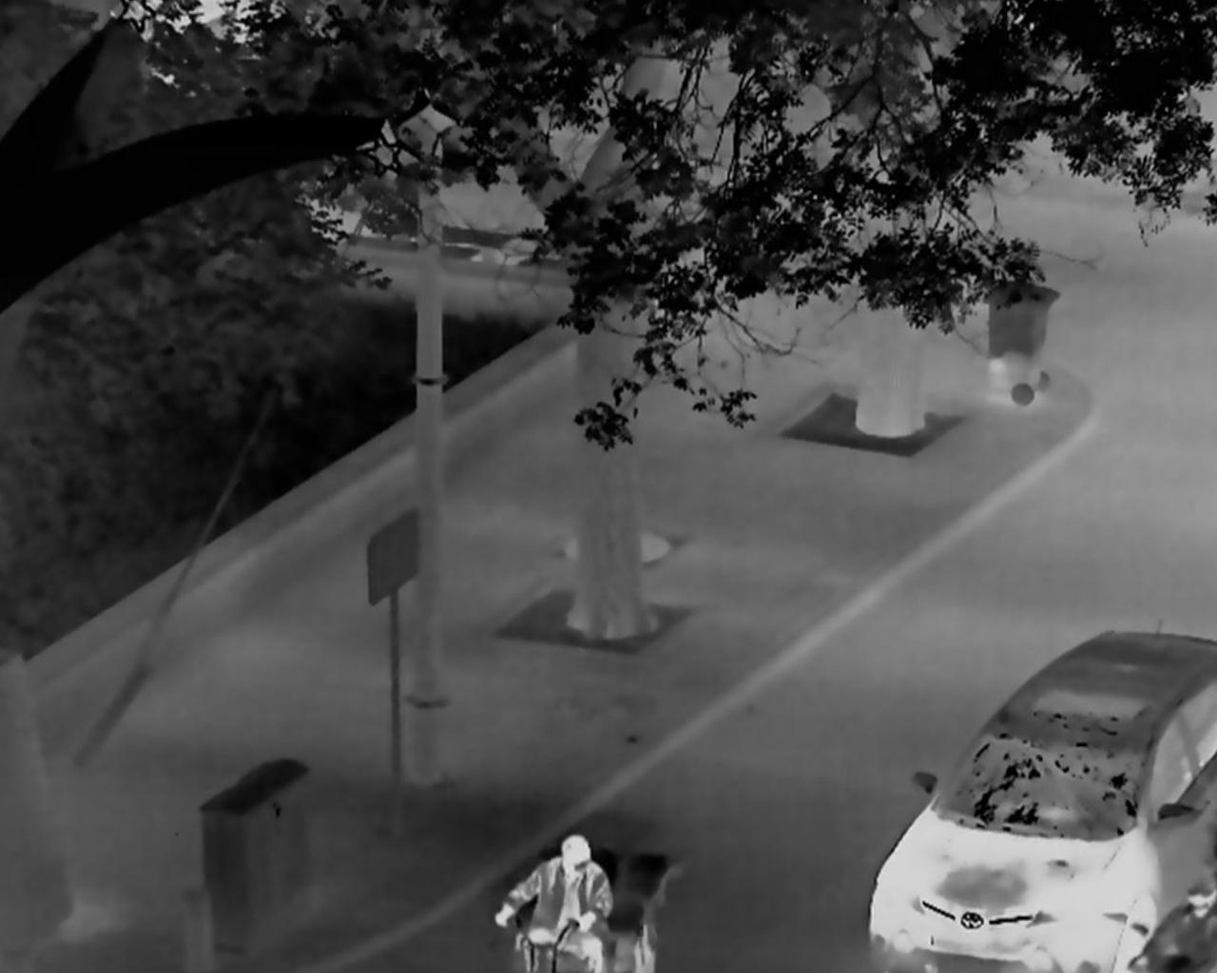person: (493, 834, 612, 972)
